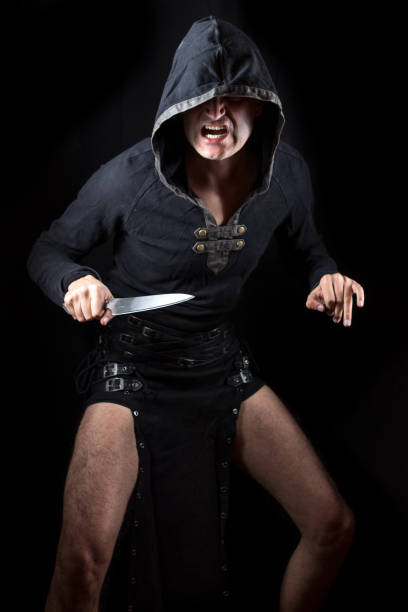knife: (101, 293, 196, 316)
